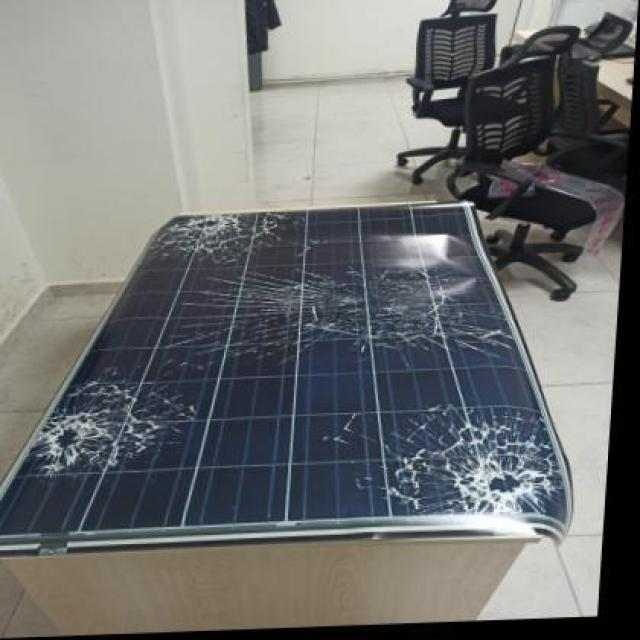cracked: (9, 208, 570, 566)
